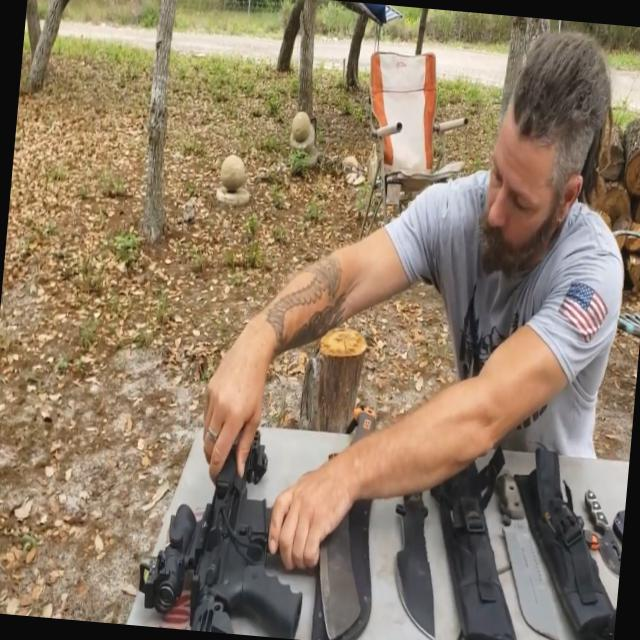knife: (360, 418, 469, 639), (303, 387, 392, 639), (480, 470, 576, 634), (571, 472, 627, 580)
long weapon: (118, 362, 353, 639)
